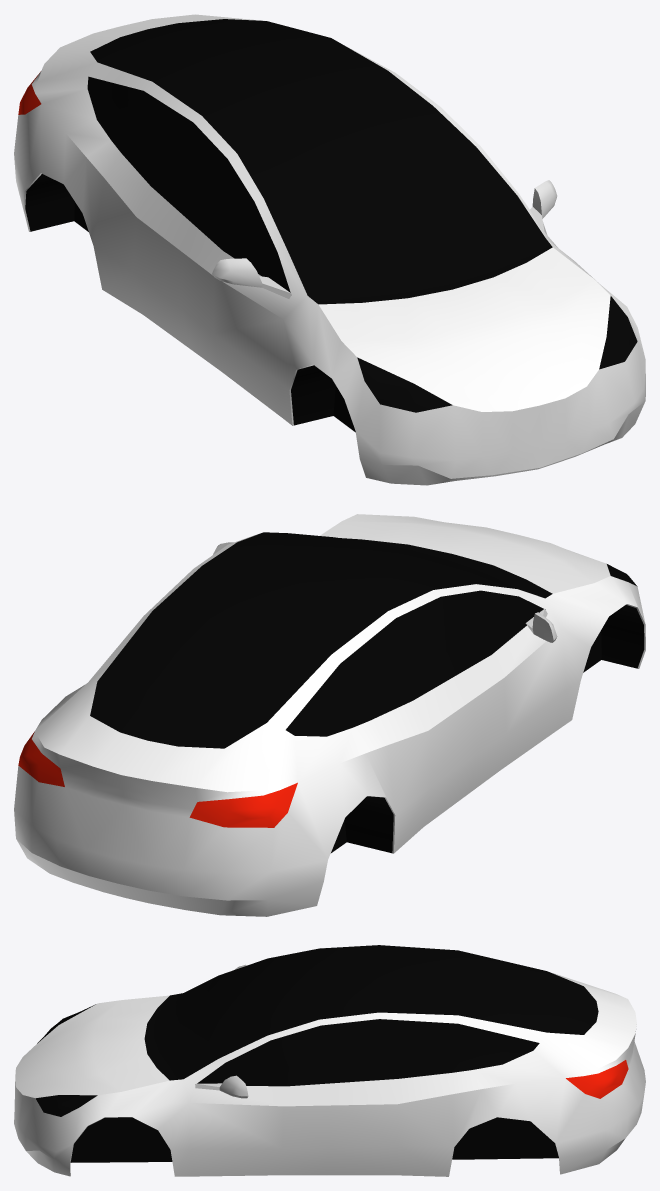
The model's file is tesla.fbx.
3 renders of one model, top to bottom at view 1: azimuth 30°, elevation 25°; view 2: azimuth 150°, elevation 25°; view 3: azimuth 270°, elevation 25°, orthographic. The views are drawn at different scales.
Visible parts, largest first — view 1: Body, Glass, Undercarriage, Headlights, Mirrors; view 2: Body, Glass, Undercarriage, Taillights, Mirrors; view 3: Body, Glass, Undercarriage, Taillights, Headlights, Mirrors.
Boxes of the visible parts, x1=… form: Body: x1=14, y1=14, x2=645, y2=485; Glass: x1=87, y1=19, x2=552, y2=304; Undercarriage: x1=25, y1=174, x2=355, y2=432; Headlights: x1=357, y1=296, x2=637, y2=412; Mirrors: x1=212, y1=180, x2=557, y2=298; Body: x1=14, y1=514, x2=645, y2=916; Glass: x1=90, y1=532, x2=552, y2=748; Undercarriage: x1=331, y1=605, x2=644, y2=853; Taillights: x1=18, y1=731, x2=297, y2=827; Mirrors: x1=213, y1=542, x2=557, y2=642; Body: x1=14, y1=948, x2=645, y2=1176; Glass: x1=144, y1=945, x2=598, y2=1086; Undercarriage: x1=70, y1=1117, x2=558, y2=1162; Taillights: x1=566, y1=1060, x2=628, y2=1098; Headlights: x1=35, y1=1004, x2=97, y2=1116; Mirrors: x1=195, y1=964, x2=248, y2=1098.
Bounding box in the file's own units: 2.44 × 1.41 × 5.26.
